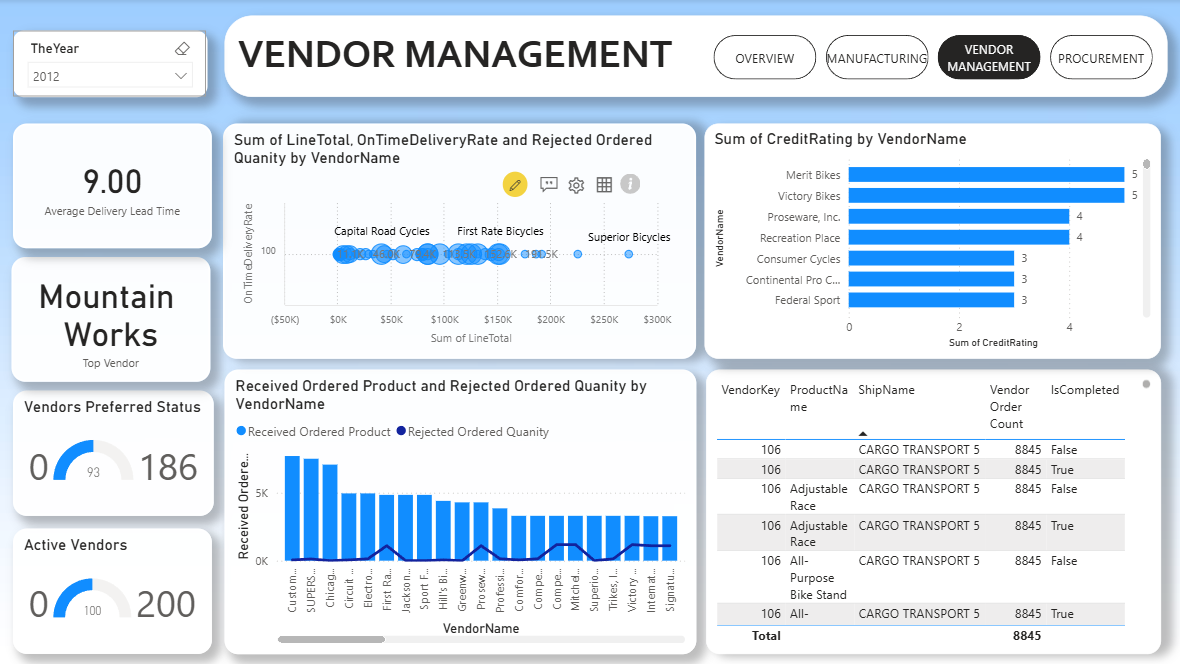

Layout of this report page (visuals, bound fields, positions):
{"tool":"powerbi","page":{"name":"VENDOR MANAGEMENT","canvas":[1280,720],"ordinal":2},"visuals":[{"type":"gauge","fields":{"Y":["DAX.Vendors Preferred Status"]},"box":[15.6,423,216.7,135.6],"z":0},{"type":"card","fields":{"Values":["DAX.Top Vendor"]},"box":[14.4,279,214.4,134.4],"z":1000},{"type":"gauge","fields":{"Y":["DAX.Active Vendors"]},"box":[15.6,571.1,214.4,135.6],"z":3000},{"type":"lineStackedColumnComboChart","fields":{"Category":["DimVendor.VendorName"],"Y":["DAX.Received Ordered Product"],"Y2":["DAX.Rejected Ordered Quanity"]},"box":[244.3,399.3,509.1,307.4],"z":4000},{"type":"performanceBubbleChartFBAAA829CB604E5CAB4F21729F233294","fields":{"category":["DimVendor.VendorName"],"xmeasure":["Sum(FactPurchaseOrder.LineTotal)"],"ymeasure":["DAX.OnTimeDeliveryRate"],"zmeasure":["DAX.Rejected Ordered Quanity"]},"box":[242.9,134.5,510.5,253.9],"z":6000},{"type":"textbox","box":[244,18,1018,88],"z":7000},{"type":"slicer","fields":{"Values":["Galaxy DimTime.TheYear"]},"box":[15.6,33.3,210,72.2],"z":9000},{"type":"card","fields":{"Values":["DAX.Average Ship Time by Day"]},"box":[15.6,135,214.4,134.4],"z":10000},{"type":"tableEx","fields":{"Values":["DimVendor.VendorKey","DimProduct.ProductName","DimShipMethod.ShipName","DAX.Vendor Order Count","FactPurchaseOrder.IsCompleted"]},"box":[764.3,399.3,491.3,307.4],"z":11000},{"type":"pageNavigator","box":[771.7,38.3,476.7,48.3],"z":13000},{"type":"clusteredBarChart","fields":{"Category":["DimVendor.VendorName"],"Y":["Sum(DimVendor.CreditRating)"]},"box":[763,134.5,492.6,253.9],"z":14000}]}

Visuals, with their boxes in screenshot pixels (x1, y1, x2, y2), scaled from the page's 1280x720 canvas onto the 1180x664 screenshot:
gauge - DAX.Vendors Preferred Status: (x1=14, y1=390, x2=214, y2=515)
card - DAX.Top Vendor: (x1=13, y1=257, x2=211, y2=381)
gauge - DAX.Active Vendors: (x1=14, y1=527, x2=212, y2=652)
lineStackedColumnComboChart - DimVendor.VendorName x DAX.Received Ordered Product: (x1=225, y1=368, x2=695, y2=652)
performanceBubbleChartFBAAA829CB604E5CAB4F21729F233294 - DimVendor.VendorName x Sum(FactPurchaseOrder.LineTotal): (x1=224, y1=124, x2=695, y2=358)
textbox: (x1=225, y1=17, x2=1163, y2=98)
slicer - Galaxy DimTime.TheYear: (x1=14, y1=31, x2=208, y2=97)
card - DAX.Average Ship Time by Day: (x1=14, y1=125, x2=212, y2=248)
tableEx - DimVendor.VendorKey x DimProduct.ProductName: (x1=705, y1=368, x2=1158, y2=652)
pageNavigator: (x1=711, y1=35, x2=1151, y2=80)
clusteredBarChart - DimVendor.VendorName x Sum(DimVendor.CreditRating): (x1=703, y1=124, x2=1158, y2=358)
